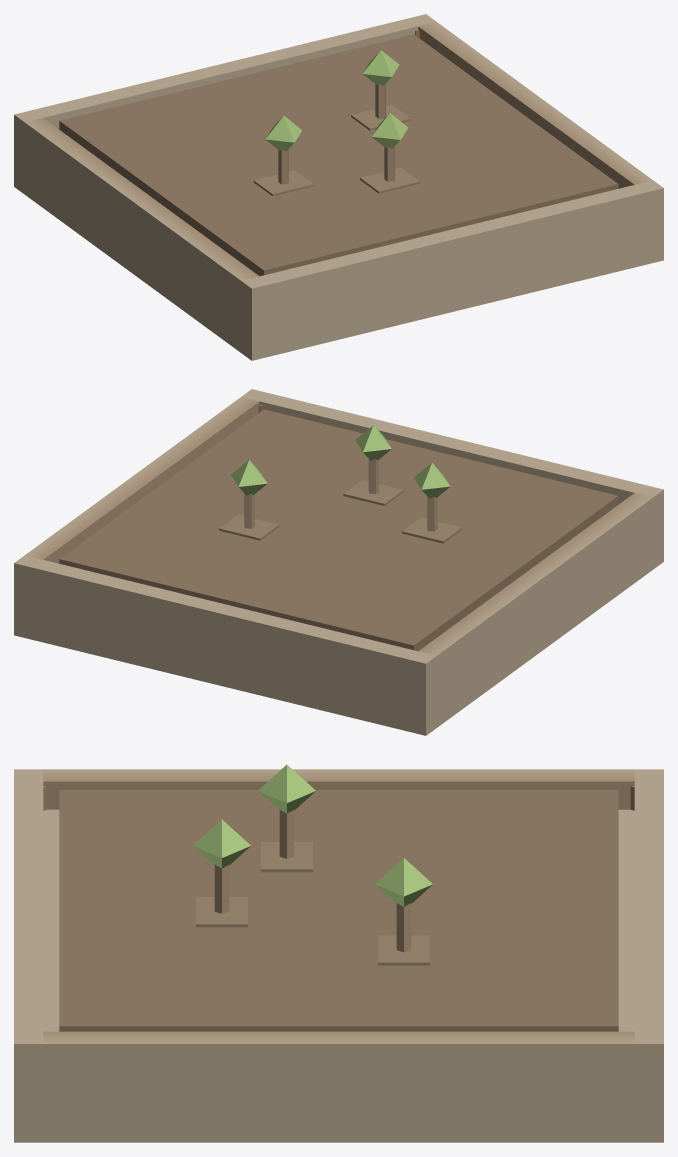
The model's file is cafe_siembra_far.glb.
3 renders of one model, top to bottom at view 1: azimuth 30°, elevation 25°; view 2: azimuth 150°, elevation 25°; view 3: azimuth 270°, elevation 25°, orthographic. The views are drawn at different scales.
Visible parts, largest first — view 1: model; view 2: model; view 3: model.
Part boxes in pixels (x1,y1,x2,y2): model: (14, 14, 663, 360); model: (14, 389, 663, 735); model: (14, 764, 663, 1142).
Bounding box in the file's own units: 1 × 0.325 × 1.
